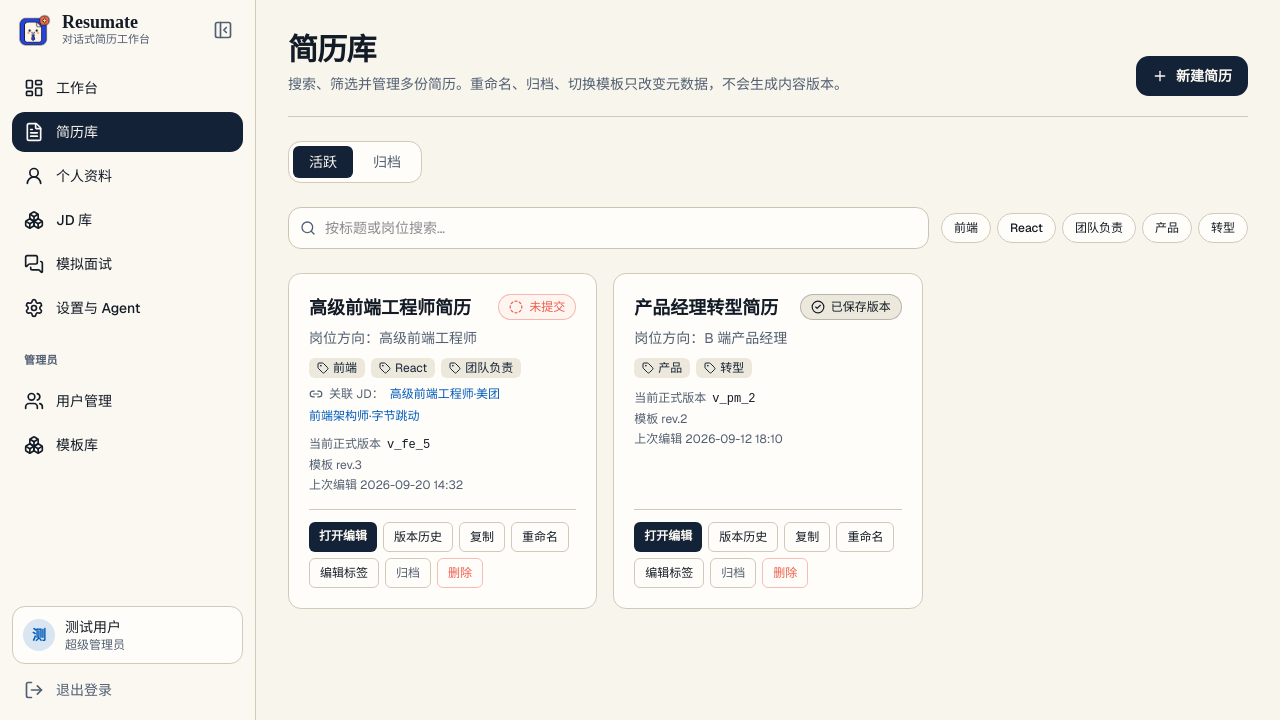
简历库列表：复制入口 › 复制失败时就地展示 i18n 文案，不透出后端 message，也不跳转
Click the button "复制" below "高级前端工程师简历": (482, 537) [459,522,505,552]
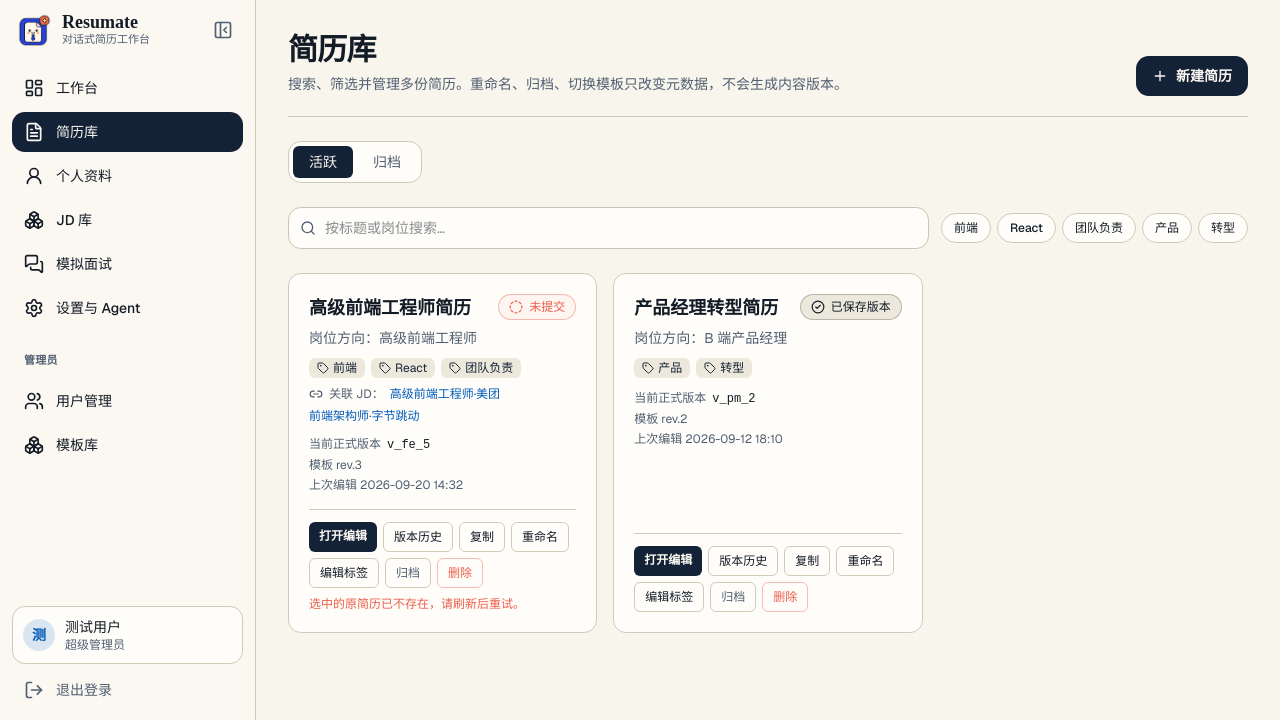
Result: the message reads "选中的原简历已不存在，请刷新后重试。" at [309,596,525,612]
